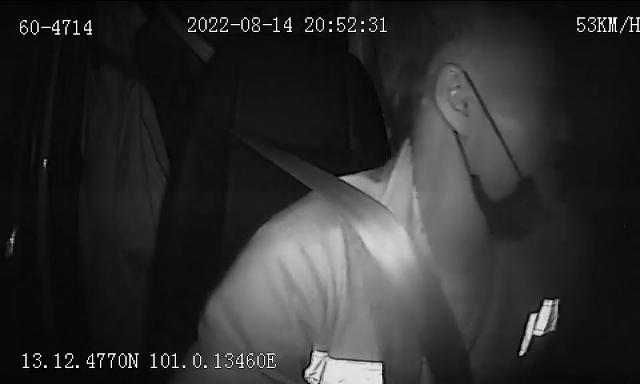Seatbelt: (236, 120, 502, 374)
